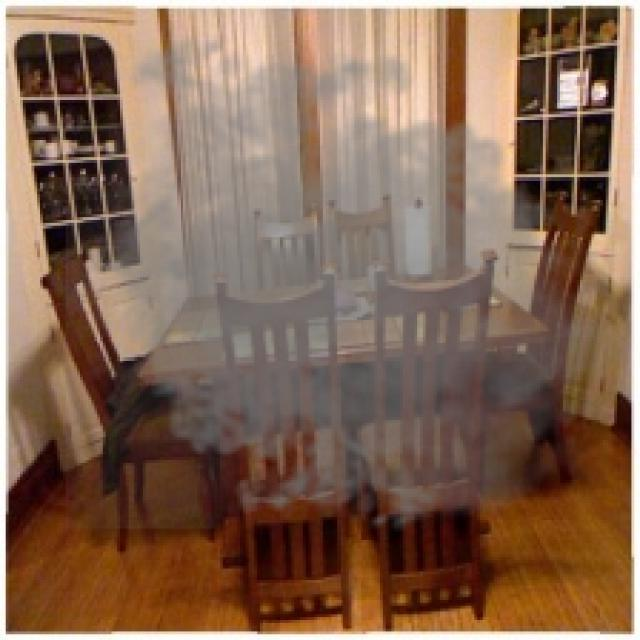Smoke: (66, 20, 632, 540)
